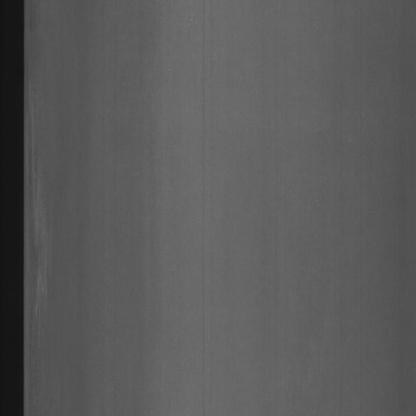silk_spot: (26, 111, 48, 332)
